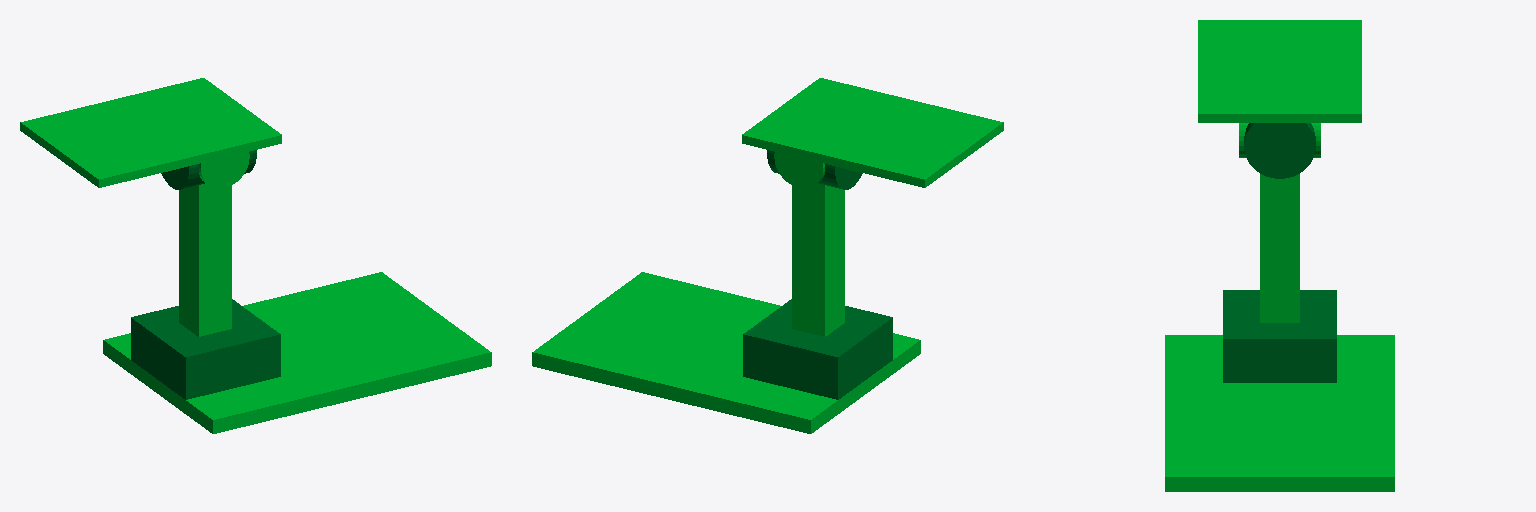
robot.urdf — object_lifter_preview:
<?xml version="1.0"?>
<robot name="object_lifter_preview">
  <!--
    Preview URDF for ROS 2 + Ignition Gazebo 6.
    Coordinate convention:
      x: front/back direction
      y: left/right direction
      z: vertical direction

    Main motions:
      1. z_lift_joint: prismatic joint for vertical platform movement
      2. roll_joint: revolute joint around x-axis
      3. pitch_joint: revolute joint around y-axis

    Design intent for the lower plate:
      - The lower mount is attached to the very rear side of the lower base plate.
      - The usable flat area in front of the lower mount is 135 mm x 140 mm.
      - URDF uses meters, so 135 mm = 0.135 m and 140 mm = 0.140 m.
  -->

  <material name="green">
    <color rgba="0.0 0.75 0.22 1.0"/>
  </material>
  <material name="dark_green">
    <color rgba="0.0 0.45 0.18 1.0"/>
  </material>
  <material name="black">
    <color rgba="0.02 0.02 0.02 1.0"/>
  </material>

  <!--
    Lower base plate.
    Total x length is 205 mm because it contains:
      - 70 mm rear mount footprint region
      - 135 mm usable front loading area
    The plate width is 140 mm.

    With the base centered at x = 0:
      - rear edge  = -0.1025 m
      - front edge = +0.1025 m
    The lower mount is centered at x = -0.0675 m and has 70 mm length,
    so the mount front edge is at x = -0.0325 m.
    Therefore usable area length is from x = -0.0325 m to +0.1025 m = 0.135 m.
  -->
  <link name="base_link">
    <visual>
      <origin xyz="0 0 0.005" rpy="0 0 0"/>
      <geometry>
        <box size="0.205 0.140 0.010"/>
      </geometry>
      <material name="green"/>
    </visual>
    <collision>
      <origin xyz="0 0 0.005" rpy="0 0 0"/>
      <geometry>
        <box size="0.205 0.140 0.010"/>
      </geometry>
    </collision>
    <inertial>
      <origin xyz="0 0 0.005" rpy="0 0 0"/>
      <mass value="0.25"/>
      <inertia ixx="0.000409" ixy="0" ixz="0" iyy="0.000881" iyz="0" izz="0.001284"/>
    </inertial>
  </link>

  <!-- Rear lower mount block. This block is attached to the very rear of the base plate. -->
  <link name="lower_mount_link">
    <visual>
      <origin xyz="0 0 0.015" rpy="0 0 0"/>
      <geometry>
        <box size="0.070 0.070 0.030"/>
      </geometry>
      <material name="dark_green"/>
    </visual>
    <collision>
      <origin xyz="0 0 0.015" rpy="0 0 0"/>
      <geometry>
        <box size="0.070 0.070 0.030"/>
      </geometry>
    </collision>
    <inertial>
      <origin xyz="0 0 0.015" rpy="0 0 0"/>
      <mass value="0.08"/>
      <inertia ixx="0.000033" ixy="0" ixz="0" iyy="0.000033" iyz="0" izz="0.000065"/>
    </inertial>
  </link>

  <joint name="base_to_lower_mount_joint" type="fixed">
    <parent link="base_link"/>
    <child link="lower_mount_link"/>
    <!--
      Mount center x = -0.0675 m.
      Mount rear edge aligns with base rear edge:
        -0.0675 - 0.035 = -0.1025 m.
      Mount front edge becomes the start of the usable 135 mm area:
        -0.0675 + 0.035 = -0.0325 m.
    -->
    <origin xyz="-0.0675 0 0.010" rpy="0 0 0"/>
  </joint>

  <!-- Moving vertical slider/column. The joint origin is at the top of the lower mount. -->
  <link name="z_slider_link">
    <visual>
      <origin xyz="0 0 0.060" rpy="0 0 0"/>
      <geometry>
        <box size="0.025 0.025 0.120"/>
      </geometry>
      <material name="green"/>
    </visual>
    <collision>
      <origin xyz="0 0 0.060" rpy="0 0 0"/>
      <geometry>
        <box size="0.025 0.025 0.120"/>
      </geometry>
    </collision>
    <inertial>
      <origin xyz="0 0 0.060" rpy="0 0 0"/>
      <mass value="0.08"/>
      <inertia ixx="0.000100" ixy="0" ixz="0" iyy="0.000100" iyz="0" izz="0.000008"/>
    </inertial>
  </link>

  <joint name="z_lift_joint" type="prismatic">
    <parent link="lower_mount_link"/>
    <child link="z_slider_link"/>
    <origin xyz="0 0 0.030" rpy="0 0 0"/>
    <axis xyz="0 0 1"/>
    <limit lower="0.000" upper="0.120" effort="80" velocity="0.08"/>
    <dynamics damping="2.0" friction="0.2"/>
  </joint>

  <!-- First rotational axis: roll around x-axis. -->
  <link name="roll_link">
    <visual>
      <origin xyz="0 0 0" rpy="0 1.57079632679 0"/>
      <geometry>
        <cylinder radius="0.022" length="0.050"/>
      </geometry>
      <material name="dark_green"/>
    </visual>
    <collision>
      <origin xyz="0 0 0" rpy="0 1.57079632679 0"/>
      <geometry>
        <cylinder radius="0.022" length="0.050"/>
      </geometry>
    </collision>
    <inertial>
      <origin xyz="0 0 0" rpy="0 0 0"/>
      <mass value="0.03"/>
      <inertia ixx="0.000010" ixy="0" ixz="0" iyy="0.000010" iyz="0" izz="0.000010"/>
    </inertial>
  </link>

  <joint name="roll_joint" type="revolute">
    <parent link="z_slider_link"/>
    <child link="roll_link"/>
    <origin xyz="0 0 0.125" rpy="0 0 0"/>
    <axis xyz="1 0 0"/>
    <limit lower="-0.5236" upper="0.5236" effort="20" velocity="1.0"/>
    <dynamics damping="0.2" friction="0.05"/>
  </joint>

  <!-- Second rotational axis: pitch around y-axis. -->
  <link name="pitch_link">
    <visual>
      <origin xyz="0 0 0" rpy="1.57079632679 0 0"/>
      <geometry>
        <cylinder radius="0.018" length="0.050"/>
      </geometry>
      <material name="green"/>
    </visual>
    <collision>
      <origin xyz="0 0 0" rpy="1.57079632679 0 0"/>
      <geometry>
        <cylinder radius="0.018" length="0.050"/>
      </geometry>
    </collision>
    <inertial>
      <origin xyz="0 0 0" rpy="0 0 0"/>
      <mass value="0.03"/>
      <inertia ixx="0.000008" ixy="0" ixz="0" iyy="0.000008" iyz="0" izz="0.000008"/>
    </inertial>
  </link>

  <joint name="pitch_joint" type="revolute">
    <parent link="roll_link"/>
    <child link="pitch_link"/>
    <origin xyz="0 0 0" rpy="0 0 0"/>
    <axis xyz="0 1 0"/>
    <limit lower="-0.5236" upper="0.5236" effort="20" velocity="1.0"/>
    <dynamics damping="0.2" friction="0.05"/>
  </joint>

  <!--
    Upper plate.
    This is kept as the smaller upper object support plate, not the lower usable area.
    It remains attached around the pitch joint as in the previous model.
  -->
  <link name="top_plate_link">
    <visual>
      <origin xyz="-0.040 0 0.020" rpy="0 0 0"/>
      <geometry>
        <box size="0.135 0.100 0.006"/>
      </geometry>
      <material name="green"/>
    </visual>
    <collision>
      <origin xyz="-0.040 0 0.020" rpy="0 0 0"/>
      <geometry>
        <box size="0.135 0.100 0.006"/>
      </geometry>
    </collision>
    <inertial>
      <origin xyz="-0.040 0 0.020" rpy="0 0 0"/>
      <mass value="0.12"/>
      <inertia ixx="0.000196" ixy="0" ixz="0" iyy="0.000183" iyz="0" izz="0.000379"/>
    </inertial>
  </link>

  <joint name="pitch_to_top_plate_joint" type="fixed">
    <parent link="pitch_link"/>
    <child link="top_plate_link"/>
    <origin xyz="0 0 0" rpy="0 0 0"/>
  </joint>

  <gazebo reference="base_link">
    <material>Gazebo/Green</material>
    <mu1>0.8</mu1>
    <mu2>0.8</mu2>
  </gazebo>
  <gazebo reference="lower_mount_link">
    <material>Gazebo/Green</material>
  </gazebo>
  <gazebo reference="z_slider_link">
    <material>Gazebo/Green</material>
  </gazebo>
  <gazebo reference="roll_link">
    <material>Gazebo/Green</material>
  </gazebo>
  <gazebo reference="pitch_link">
    <material>Gazebo/Green</material>
  </gazebo>
  <gazebo reference="top_plate_link">
    <material>Gazebo/Green</material>
    <mu1>1.0</mu1>
    <mu2>1.0</mu2>
  </gazebo>

  <!--
    Ignition Gazebo 6 / Fortress joint position controllers.
    The teleop node publishes ignition.msgs.Double commands to these topics.
  -->
  <gazebo>
    <plugin filename="ignition-gazebo-joint-position-controller-system"
            name="ignition::gazebo::systems::JointPositionController">
      <joint_name>z_lift_joint</joint_name>
      <topic>/object_lifter/z_lift_joint/cmd_pos</topic>
      <p_gain>1200.0</p_gain>
      <i_gain>0.0</i_gain>
      <d_gain>20.0</d_gain>
      <cmd_max>80.0</cmd_max>
      <cmd_min>-80.0</cmd_min>
    </plugin>

    <plugin filename="ignition-gazebo-joint-position-controller-system"
            name="ignition::gazebo::systems::JointPositionController">
      <joint_name>roll_joint</joint_name>
      <topic>/object_lifter/roll_joint/cmd_pos</topic>
      <p_gain>40.0</p_gain>
      <i_gain>0.0</i_gain>
      <d_gain>1.0</d_gain>
      <cmd_max>20.0</cmd_max>
      <cmd_min>-20.0</cmd_min>
    </plugin>

    <plugin filename="ignition-gazebo-joint-position-controller-system"
            name="ignition::gazebo::systems::JointPositionController">
      <joint_name>pitch_joint</joint_name>
      <topic>/object_lifter/pitch_joint/cmd_pos</topic>
      <p_gain>40.0</p_gain>
      <i_gain>0.0</i_gain>
      <d_gain>1.0</d_gain>
      <cmd_max>20.0</cmd_max>
      <cmd_min>-20.0</cmd_min>
    </plugin>
  </gazebo>
</robot>

--- What the picture shows (computed from the rendered views, not written in the file) ---
3 views of the same robot in one strip: view 1: azimuth 30°, elevation 25°; view 2: azimuth 150°, elevation 25°; view 3: azimuth 270°, elevation 25° (orthographic).
Robot: object_lifter_preview — 6 links, 5 joints (2 revolute, 1 prismatic, 2 fixed); root link base_link; default pose: every joint at zero.
Links seen in each view (by area): view 1: base_link, top_plate_link, lower_mount_link, z_slider_link, pitch_link, roll_link; view 2: base_link, top_plate_link, lower_mount_link, z_slider_link, pitch_link, roll_link; view 3: base_link, top_plate_link, lower_mount_link, z_slider_link, roll_link.
Link boxes in pixels (x1,y1,x2,y2): base_link: (103,272,491,433); top_plate_link: (20,78,281,187); lower_mount_link: (131,299,280,399); z_slider_link: (179,183,231,336); pitch_link: (199,152,249,188); roll_link: (161,150,256,189); base_link: (532,272,920,433); top_plate_link: (742,78,1003,187); lower_mount_link: (743,299,892,399); z_slider_link: (792,183,844,336); pitch_link: (774,152,824,188); roll_link: (767,150,862,189); base_link: (1165,335,1394,491); top_plate_link: (1198,20,1361,122); lower_mount_link: (1223,290,1336,382); z_slider_link: (1260,174,1299,322); roll_link: (1244,123,1315,178).
Size in the robot's own frame: 0.2775 by 0.14 by 0.188 metres.
Geometry: primitives only (box / cylinder / sphere), no mesh files.
